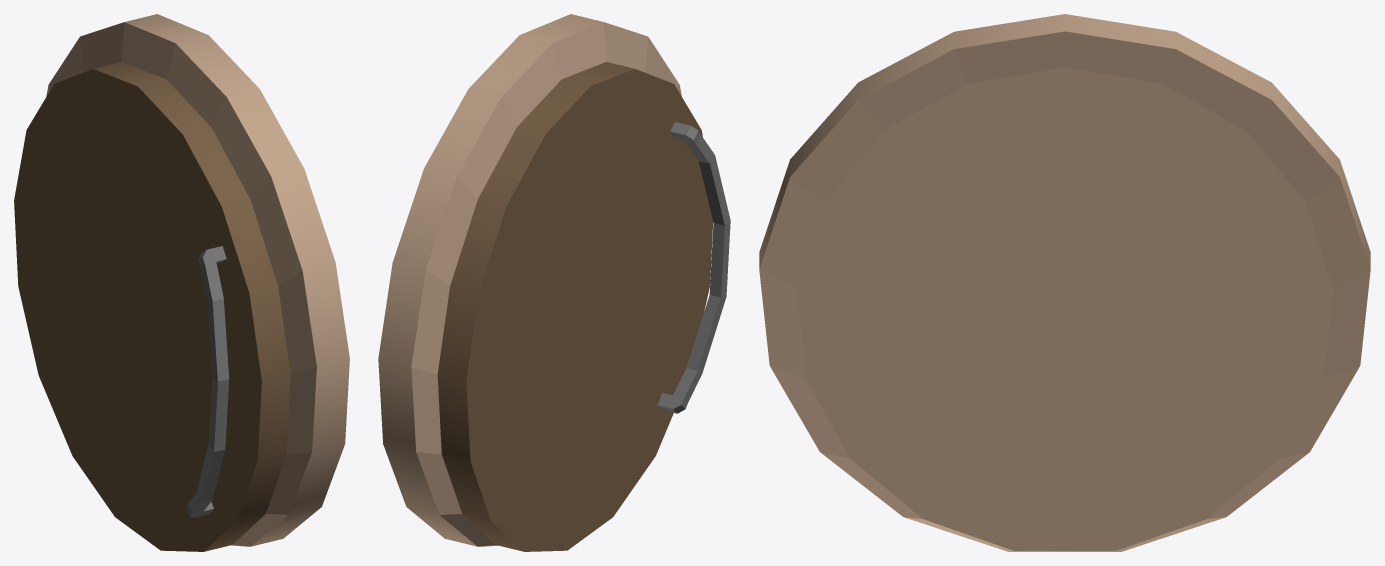
Rendered from door_02.fbx.
3 views of the same model, side by side, from view 1: azimuth 30°, elevation 25°; view 2: azimuth 150°, elevation 25°; view 3: azimuth 270°, elevation 25° (orthographic). The views are drawn at different scales.
Visible parts, largest first — view 1: door_02; view 2: door_02; view 3: door_02.
Part boxes in pixels (x1,y1,x2,y2): door_02: (14,14,349,551); door_02: (378,14,730,551); door_02: (759,14,1370,551).
Bounding box in the file's own units: 71.31 × 325 × 346.
